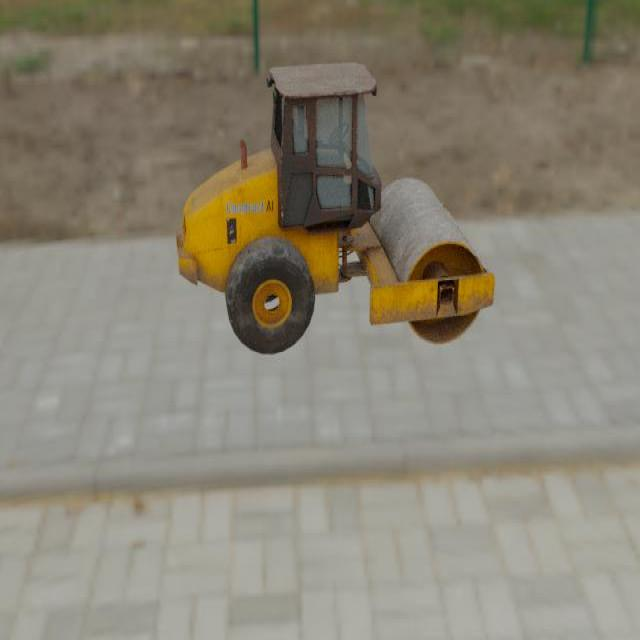Roller: (175, 61, 495, 355)
